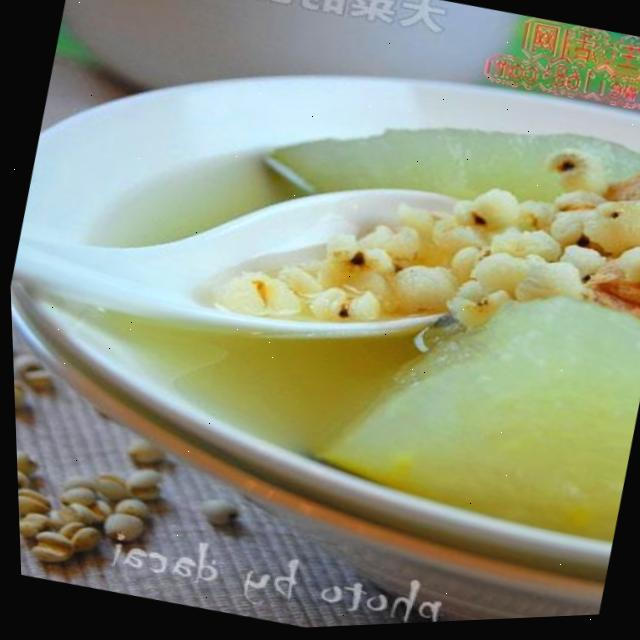汤锅炖物: (5, 0, 640, 587)
